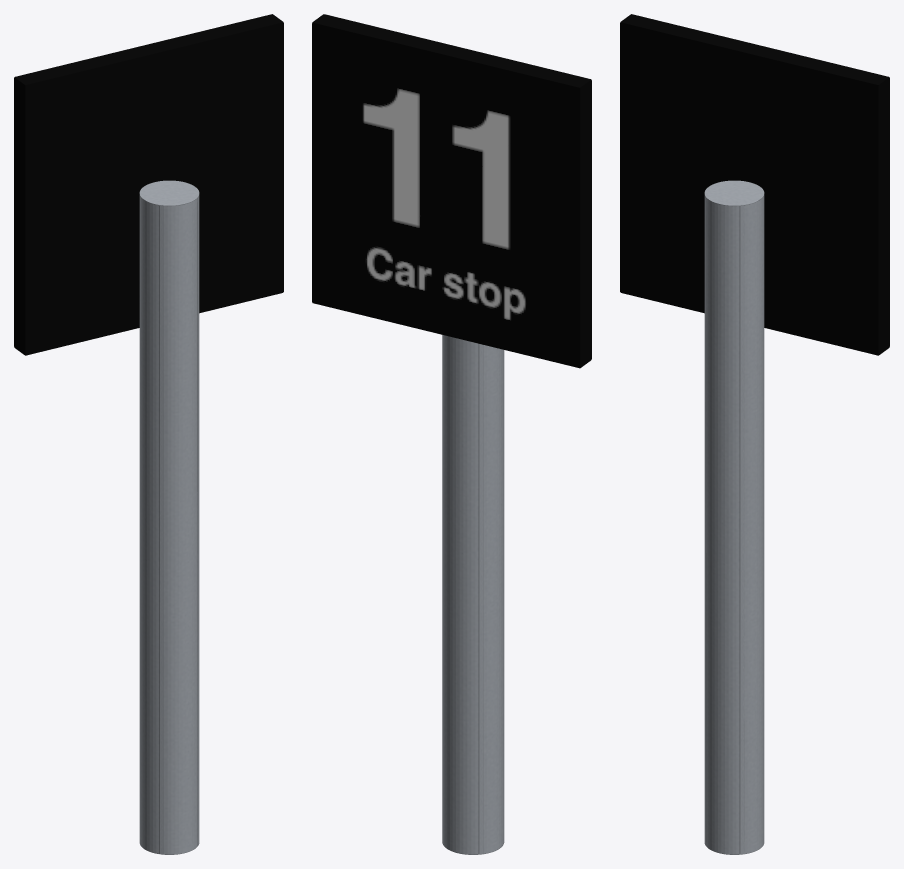
The model's file is 11mark.obj.
3 renders of one model, left to right at view 1: azimuth 30°, elevation 25°; view 2: azimuth 150°, elevation 25°; view 3: azimuth 330°, elevation 25°, orthographic. The views are drawn at different scales.
Visible parts, largest first — view 1: cube, cylinder; view 2: cube, cylinder; view 3: cube, cylinder.
Boxes of the visible parts, box(x1,y1,x2,y2) form: cube: box(14, 14, 283, 355); cylinder: box(139, 180, 199, 854); cube: box(312, 14, 591, 368); cylinder: box(442, 335, 504, 854); cube: box(620, 14, 889, 355); cylinder: box(704, 180, 764, 854).
Bounding box in the file's own units: 0.625 × 1.8 × 0.1719.
1 material, 1 textured.
